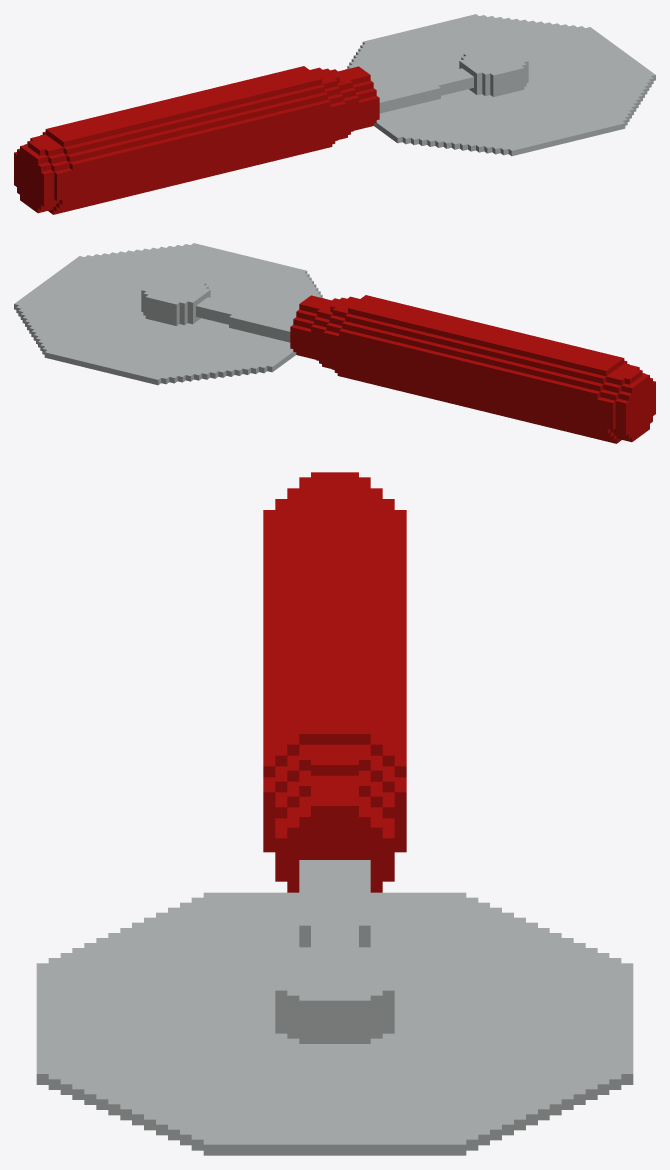
Rendered from pizza_cutter.glb.
The picture shows the model from 3 angles, top to bottom: view 1: azimuth 30°, elevation 25°; view 2: azimuth 150°, elevation 25°; view 3: azimuth 270°, elevation 25°; orthographic projection. The views are drawn at different scales.
Parts seen in each view (by area): view 1: pizza_cutter:compound; view 2: pizza_cutter:compound; view 3: pizza_cutter:compound.
Boxes of the visible parts, box(x1,y1,x2,y2) form: pizza_cutter:compound: box(14, 14, 655, 214); pizza_cutter:compound: box(14, 243, 655, 443); pizza_cutter:compound: box(36, 472, 633, 1155).
Bounding box in the file's own units: 0.23 × 0.026 × 0.1.
